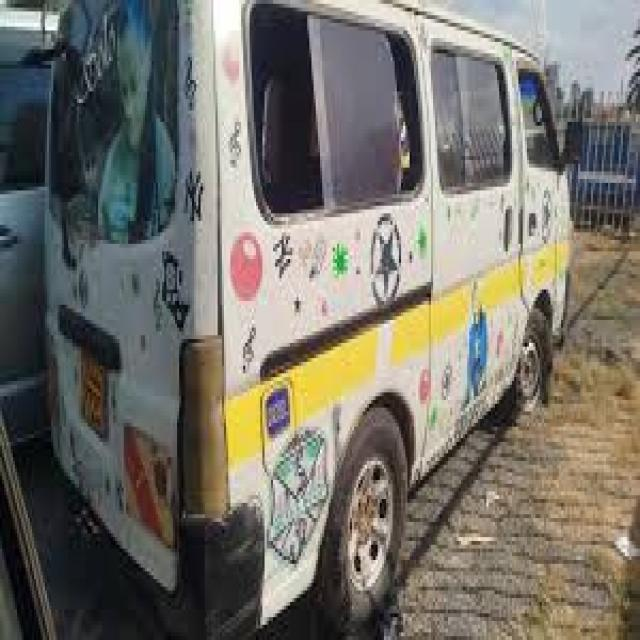matatu: (38, 0, 601, 640)
